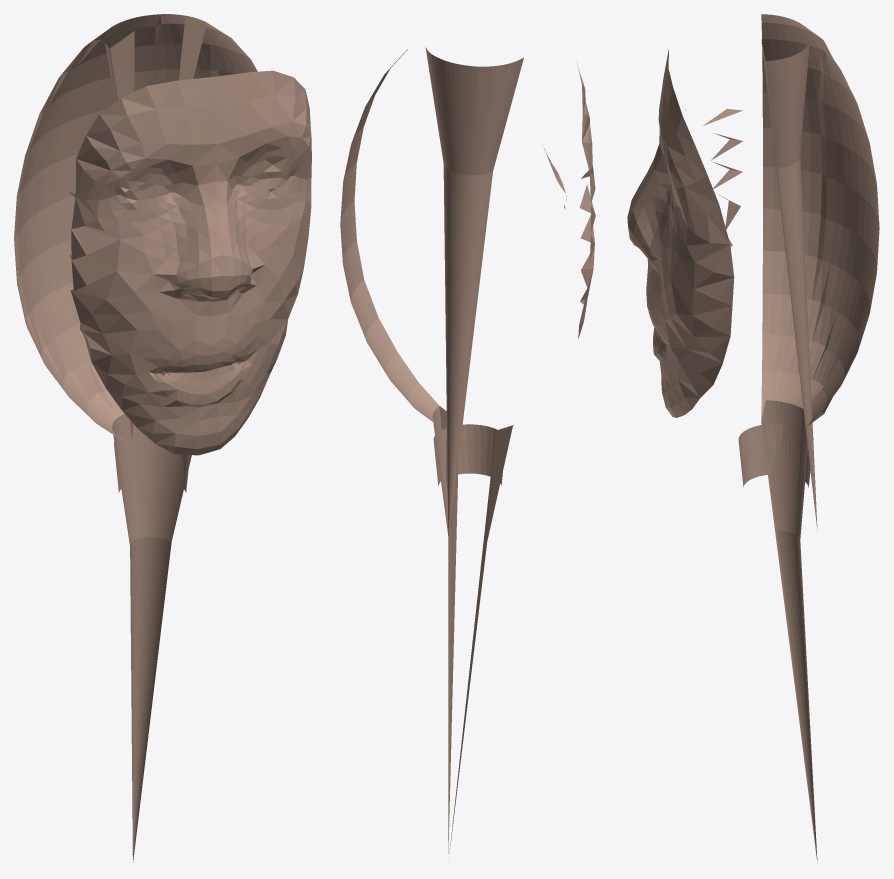
3 renders of one model, left to right at view 1: azimuth 30°, elevation 25°; view 2: azimuth 150°, elevation 25°; view 3: azimuth 270°, elevation 25°, orthographic. The views are drawn at different scales.
Parts seen in each view (by area): view 1: world; view 2: world; view 3: world.
Boxes of the visible parts, x1=… form: world: x1=14, y1=14, x2=311, y2=862; world: x1=340, y1=47, x2=595, y2=859; world: x1=627, y1=14, x2=879, y2=863.
Bounding box in the file's own units: 0.0938 × 0.2978 × 0.0812.
